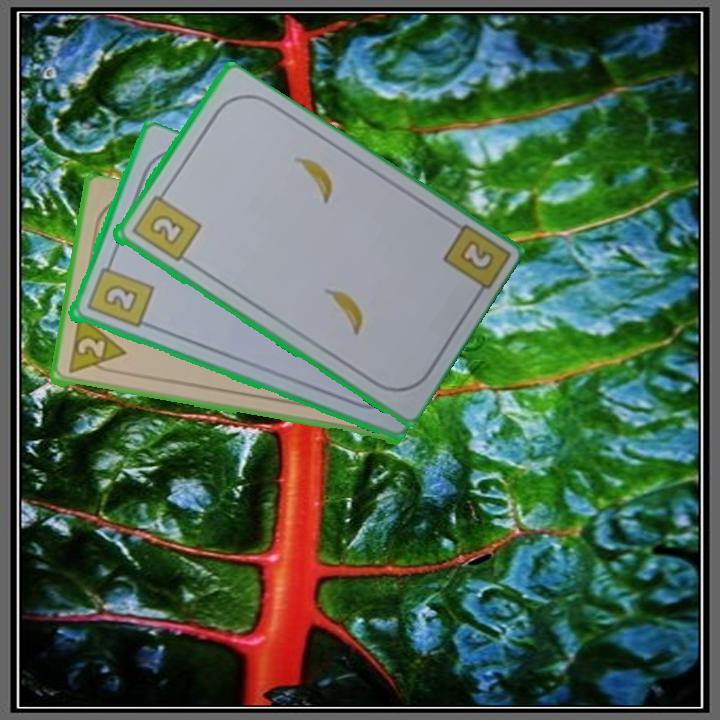2b: (127, 185, 203, 265), (83, 256, 156, 331), (459, 239, 494, 271)
2p: (64, 314, 128, 377)
